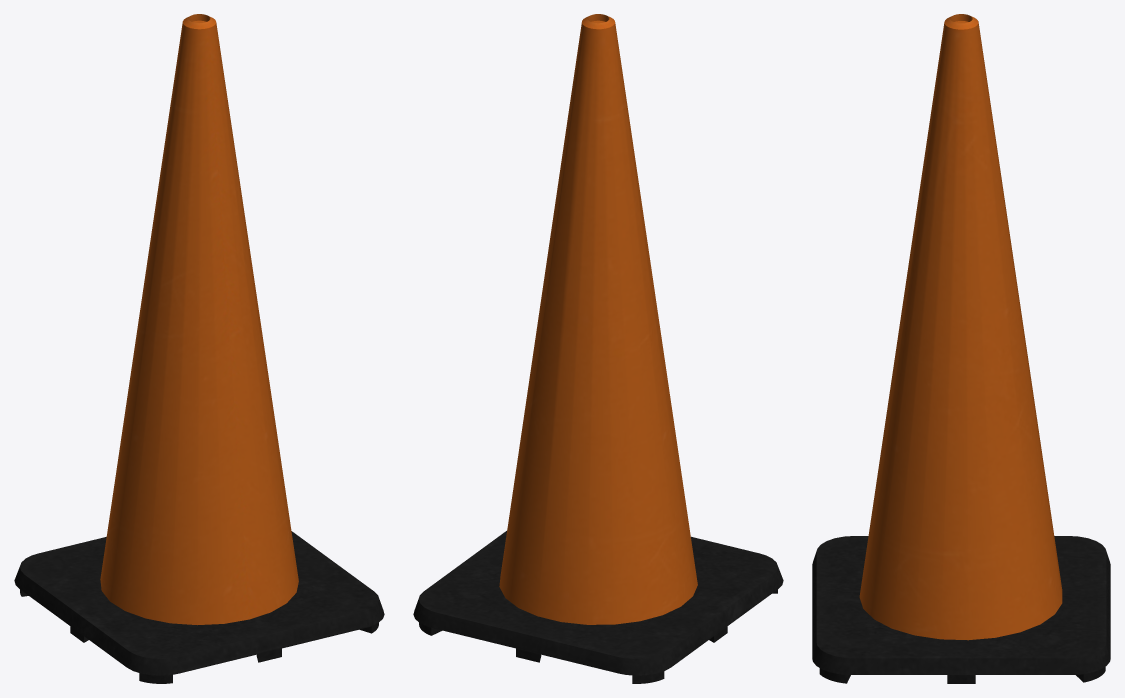
Rendered from traffic-cone-4.glb.
3 renders of one model, left to right at view 1: azimuth 30°, elevation 25°; view 2: azimuth 150°, elevation 25°; view 3: azimuth 270°, elevation 25°, orthographic. The views are drawn at different scales.
Parts seen in each view (by area): view 1: Object_82; view 2: Object_82; view 3: Object_82.
Part boxes in pixels (bbox=[...]): Object_82: bbox=[14, 14, 384, 683]; Object_82: bbox=[413, 14, 783, 683]; Object_82: bbox=[812, 14, 1110, 683].
Bounding box in the file's own units: 0.393 × 0.8768 × 0.3928.
Materials: 1 (1 with a texture image).
